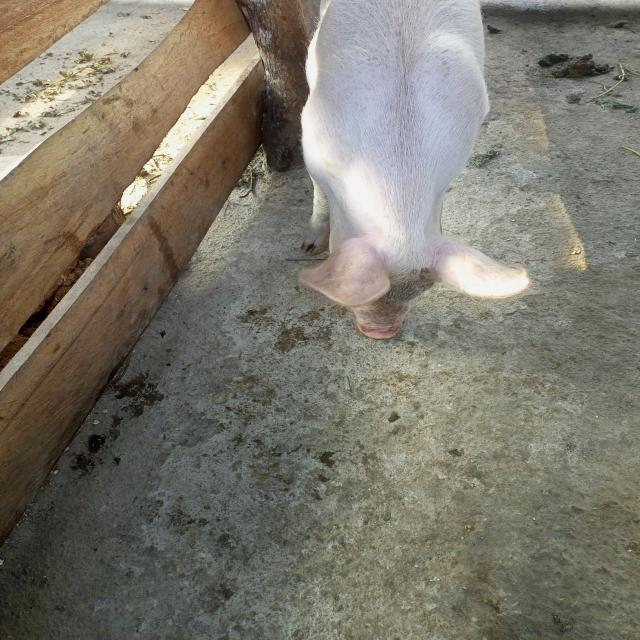pig: (237, 0, 574, 406)
